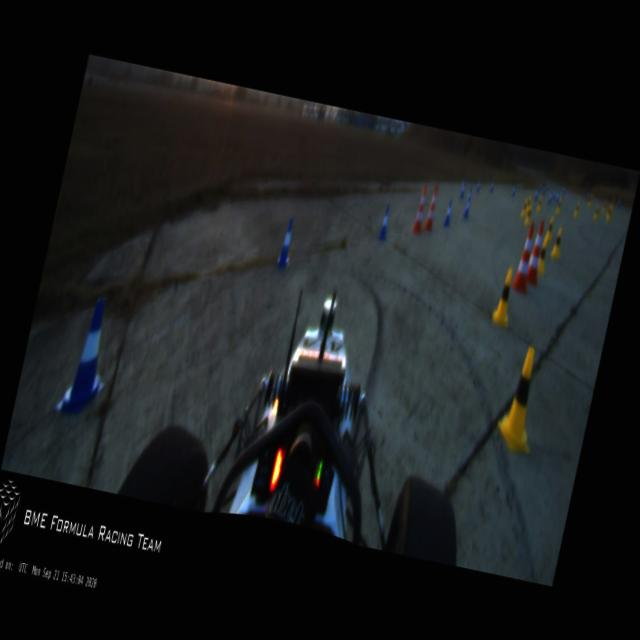blue_cone: (54, 292, 122, 420), (275, 215, 297, 267), (376, 204, 392, 240), (442, 201, 453, 226), (463, 196, 472, 216), (458, 178, 467, 198), (465, 184, 473, 203), (475, 178, 482, 194)
large_orange_cone: (510, 220, 540, 294), (524, 220, 550, 286), (422, 184, 441, 232), (411, 186, 430, 233)
yellow_cone: (493, 342, 550, 453), (491, 266, 516, 324), (534, 237, 550, 275), (549, 226, 564, 260), (544, 218, 556, 243), (523, 207, 532, 225), (520, 198, 528, 217)
